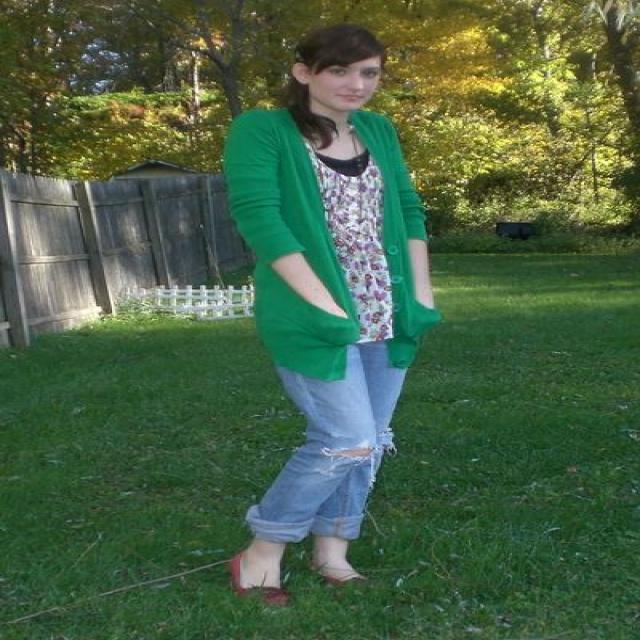jacket: (224, 109, 438, 381)
pants: (245, 330, 406, 549)
shirt: (318, 150, 392, 342)
shoe: (237, 576, 357, 614)
